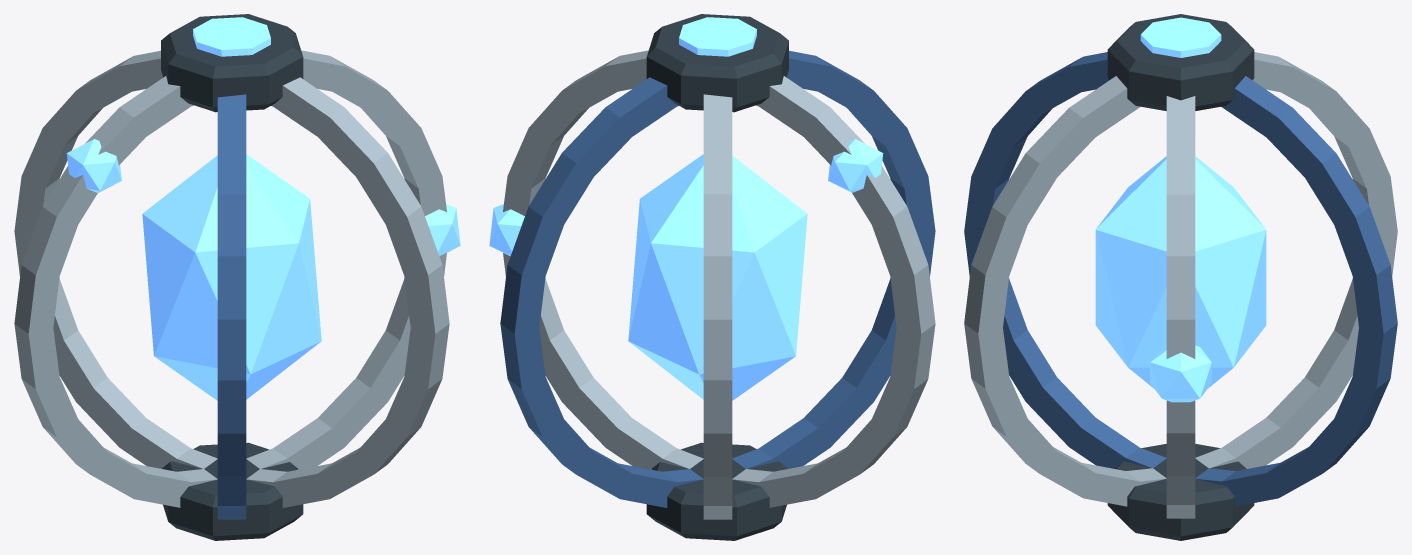
File: loot_science.glb
The picture shows the model from 3 angles, left to right: view 1: azimuth 30°, elevation 25°; view 2: azimuth 150°, elevation 25°; view 3: azimuth 270°, elevation 25°; orthographic projection.
Visible parts, largest first — view 1: loot_science; view 2: loot_science; view 3: loot_science.
Part boxes in pixels (<box>): loot_science: <box>14,14,460,540</box>; loot_science: <box>489,14,935,540</box>; loot_science: <box>964,14,1397,540</box>.
Bounding box in the file's own units: 0.8815 × 0.9449 × 0.764.
